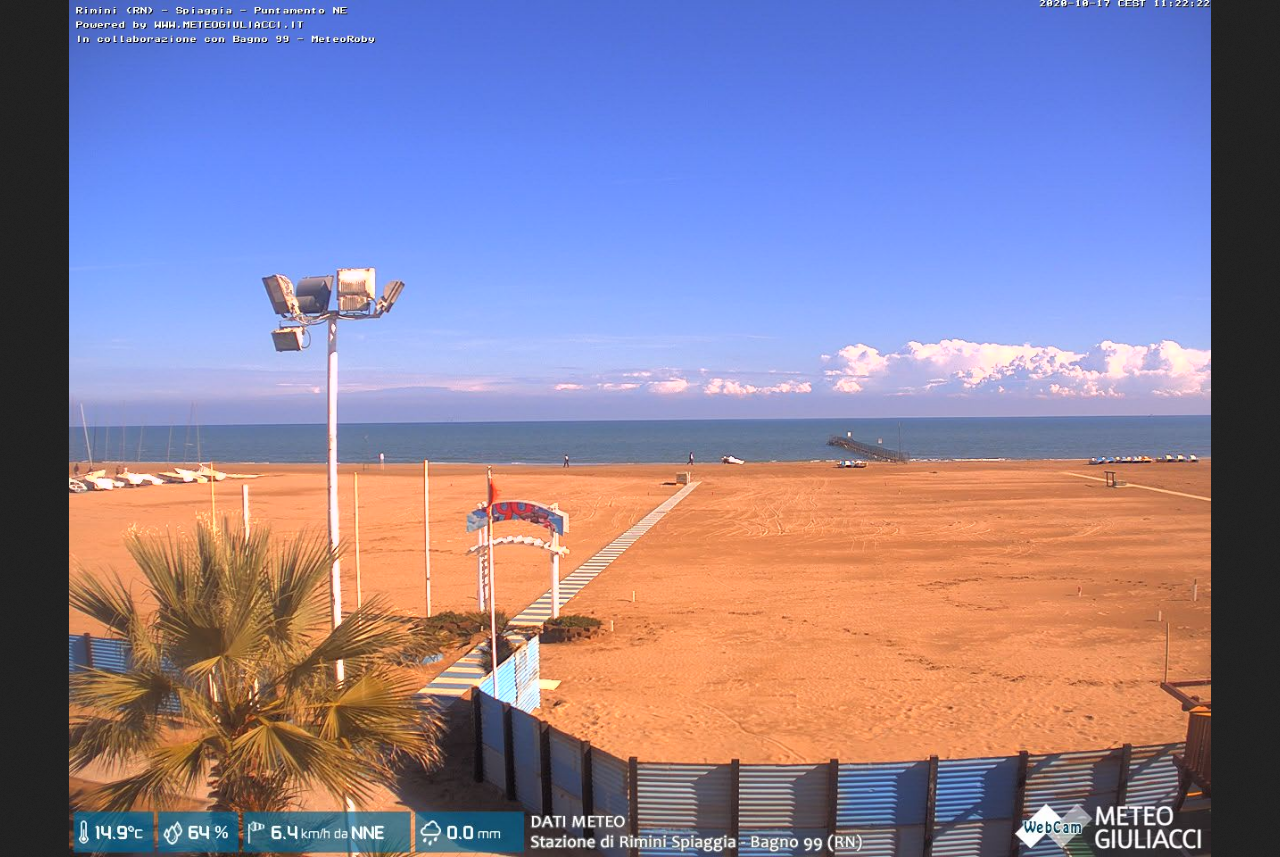maybe: (480, 474, 501, 518)
